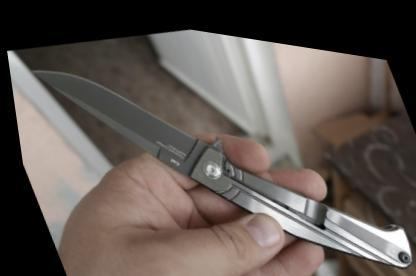knife: (5, 8, 272, 258)
